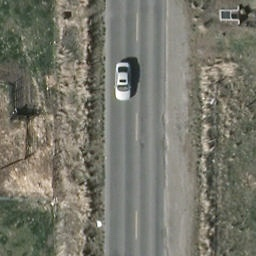car: (114, 63, 132, 103)
